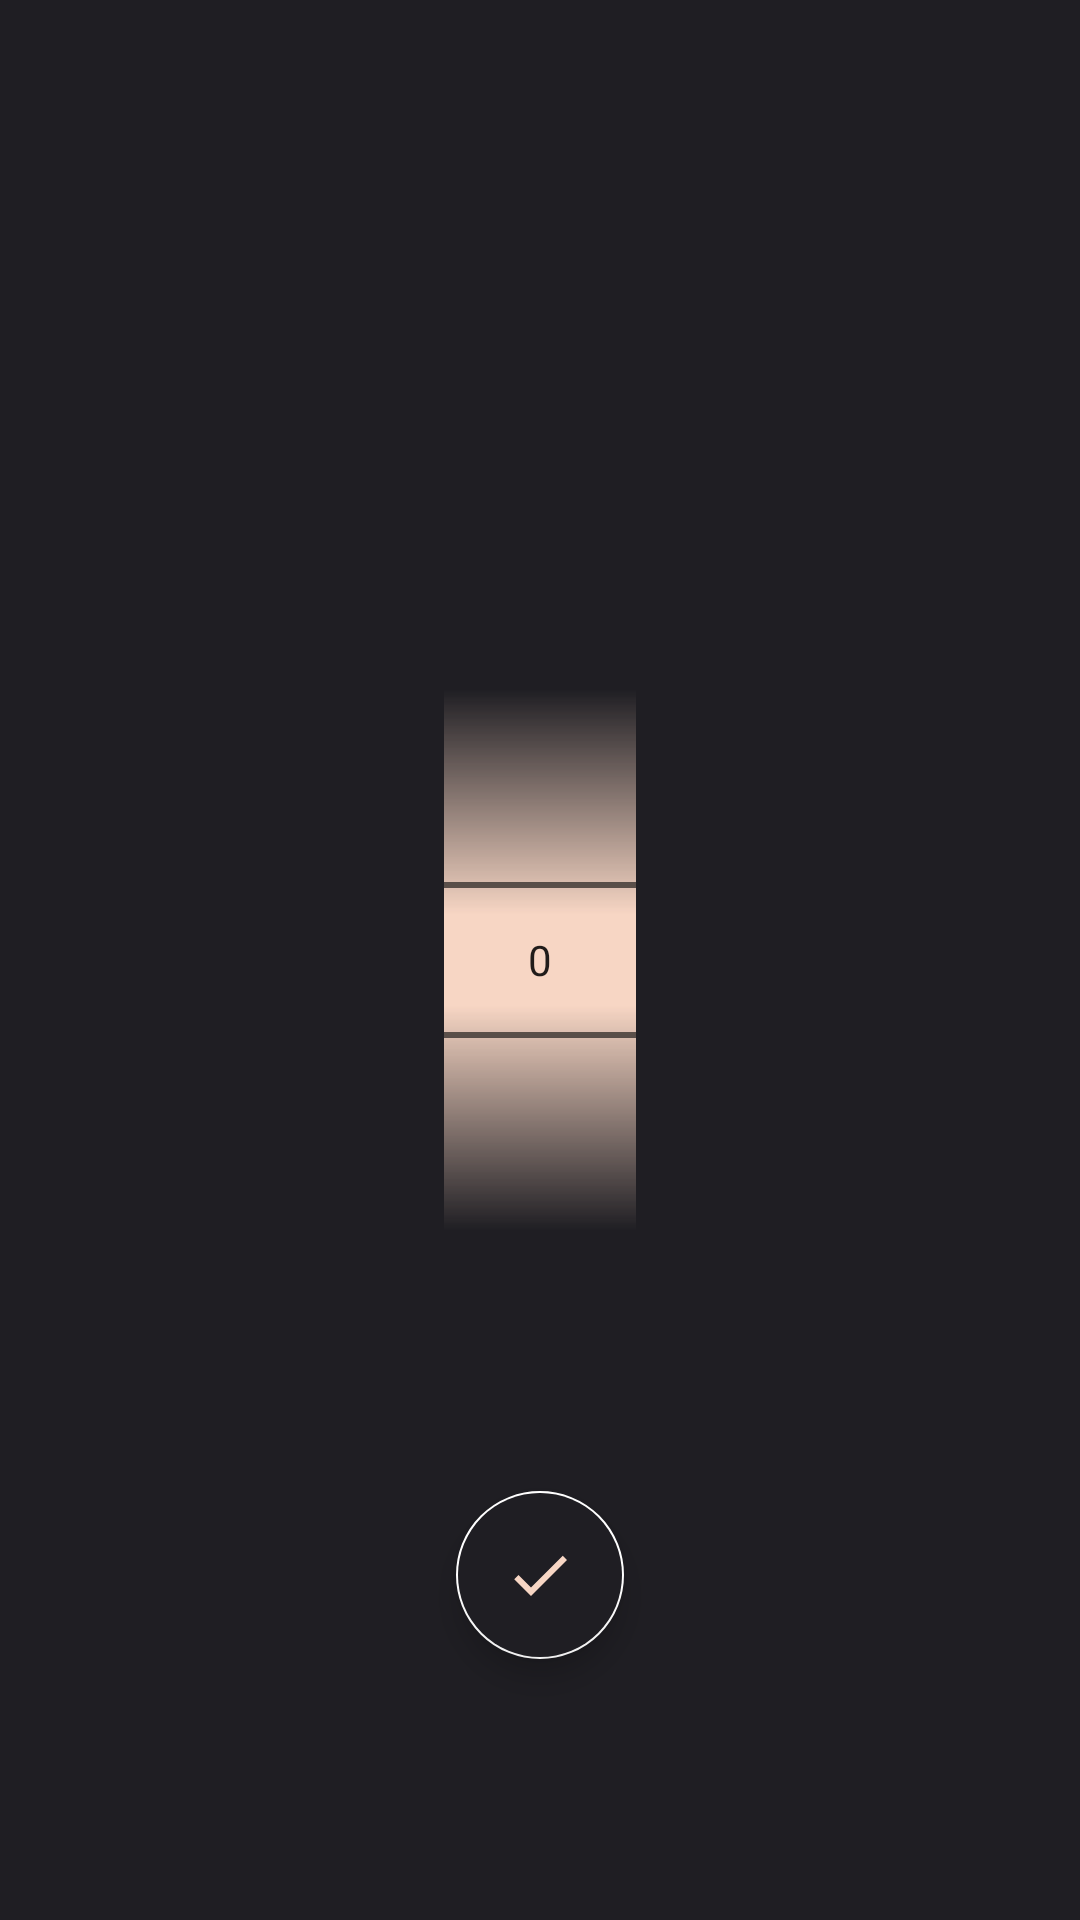

Where to tap for icons on this 1080 x 1920 app screen, as (x,y):
check: (540,1575)
